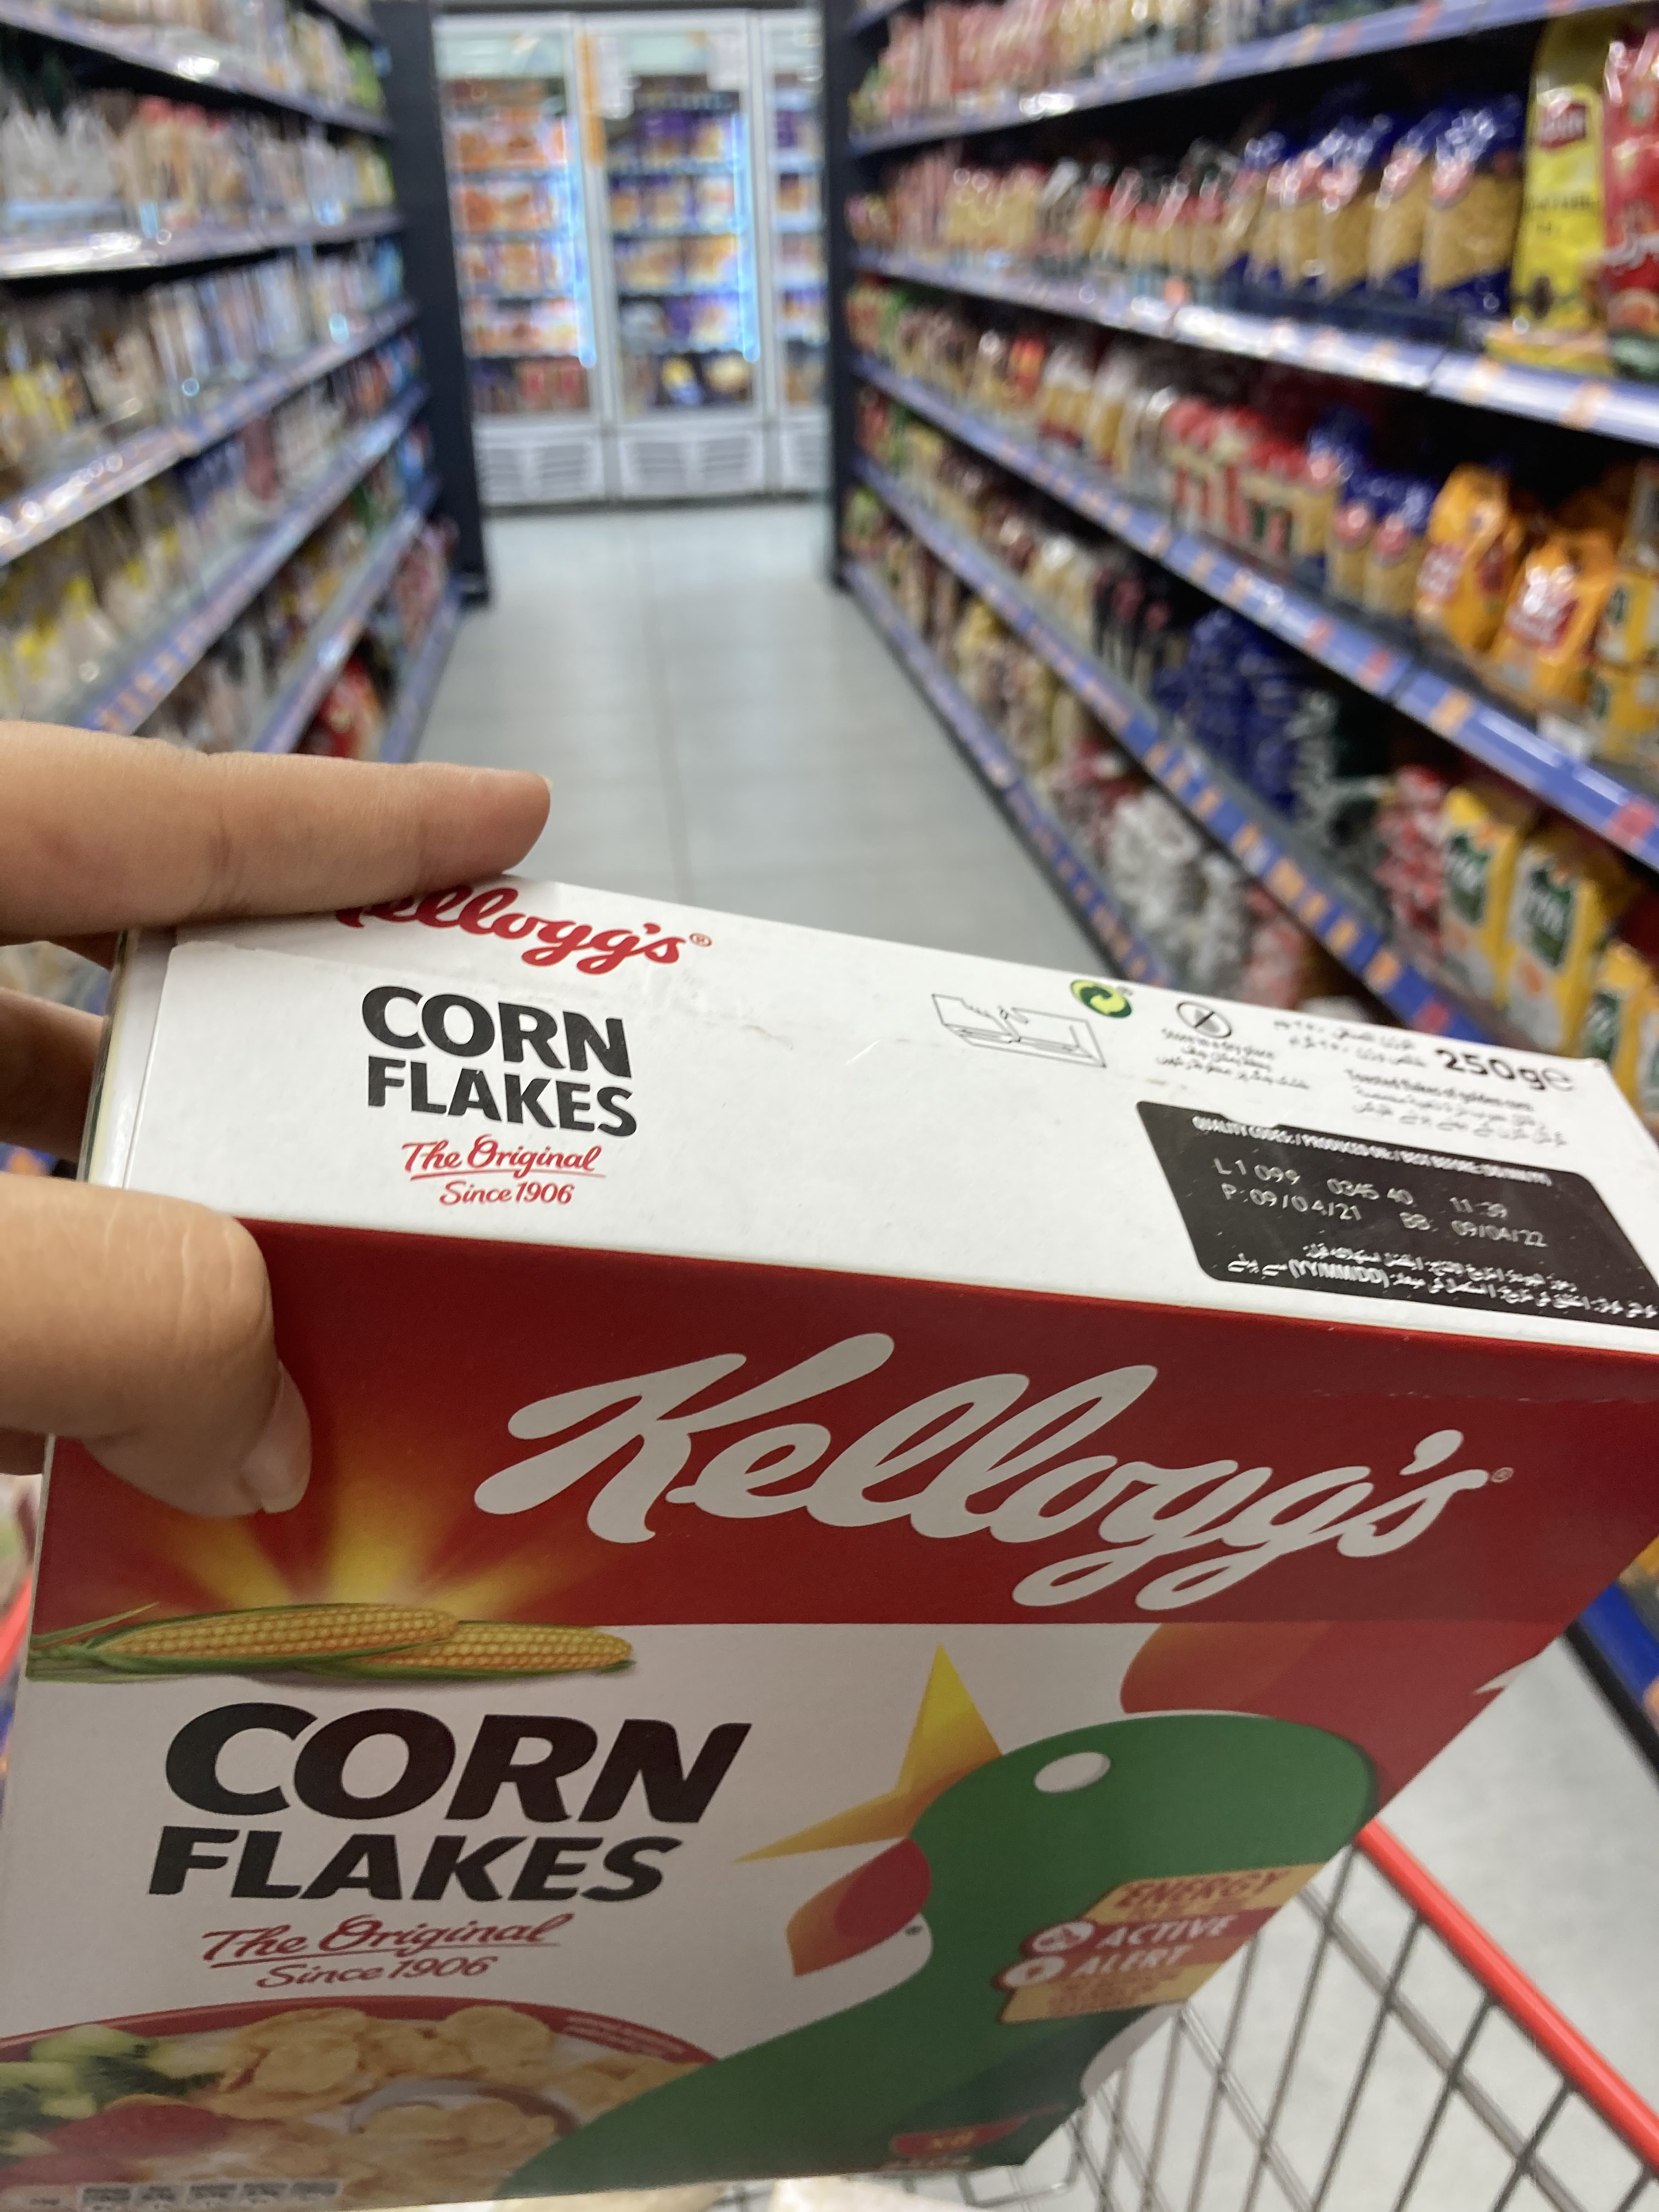Kellogg's Corn Flakes: (14, 838, 1659, 2212)
